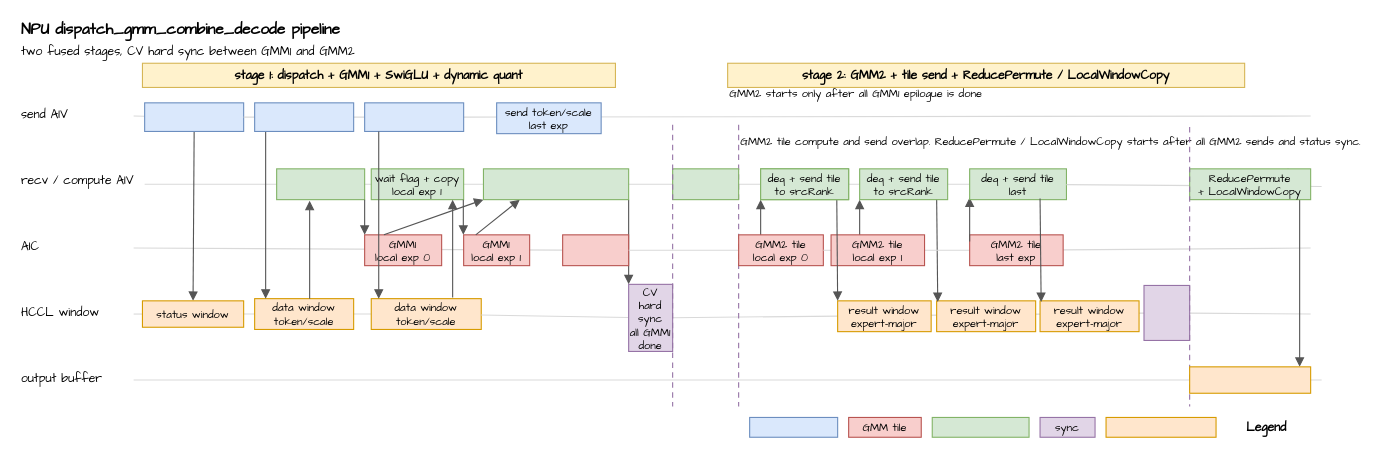
The diagram is 1386 pixels wide and 457 high, and some of its shapes have lost their labels. Here are the shapes that lost their labels. From the top down, the centre of each, then its label:
At point 194,116: "count / status".
At point 304,116: "send token/scale local exp 0".
At point 414,116: "send token/scale local exp 1".
At point 320,184: "wait flag + copy local exp 0".
At point 555,184: "dequant + SwiGLU".
At point 705,184: "dynamic quant".
At point 595,250: "GMM1 last exp".
At point 1166,312: "status sync after all sends".
At point 1250,379: "output".
At point 793,426: "route / send".
At point 980,426: "AIV epilogue".
At point 1160,426: "window / buffer".
